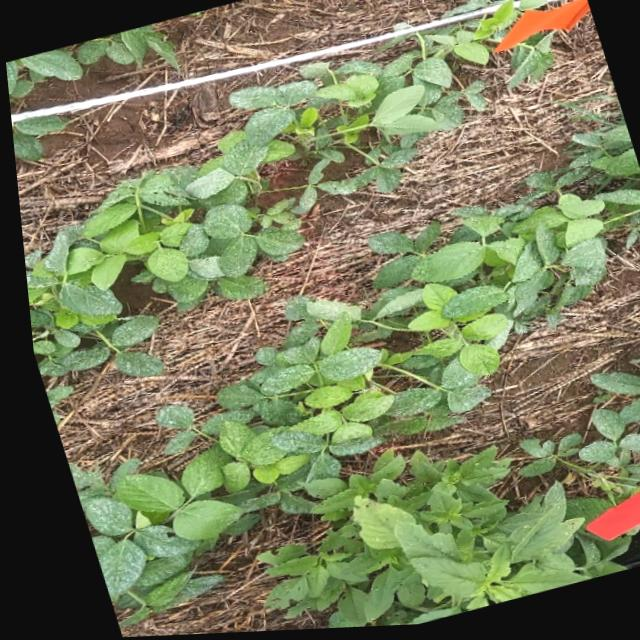caruru_weed: (246, 450, 609, 631)
soy_plant: (69, 120, 640, 621), (20, 0, 545, 375), (58, 166, 234, 283), (510, 376, 640, 480), (5, 24, 174, 101), (9, 114, 63, 160), (508, 39, 550, 90)
